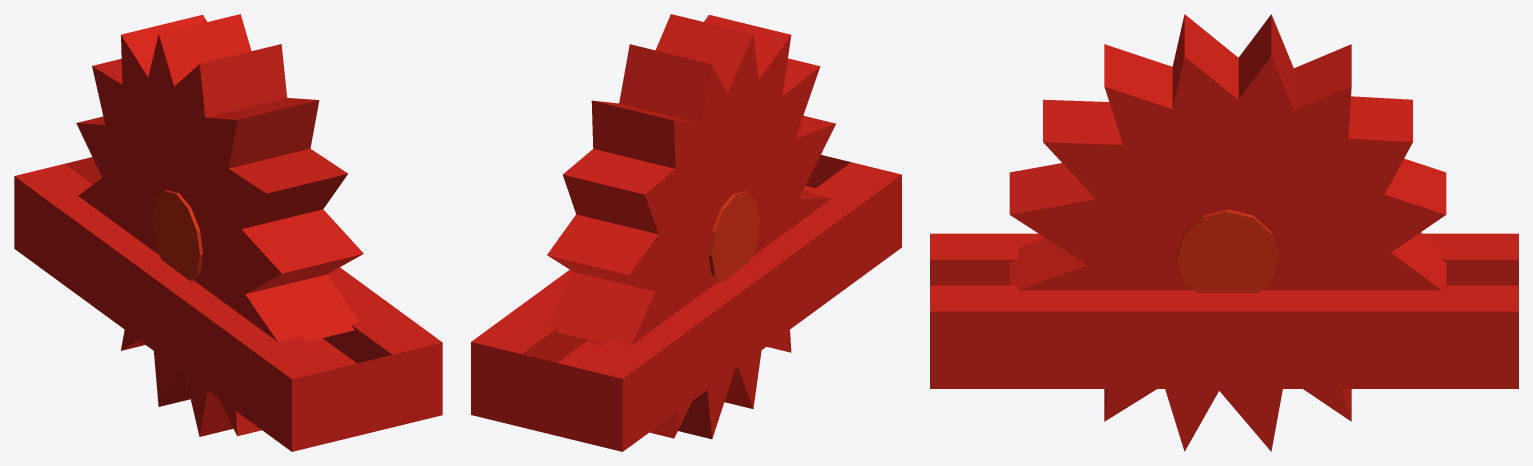
Rendered from 2nd hurdle.fbx.
The picture shows the model from 3 angles, left to right: view 1: azimuth 30°, elevation 25°; view 2: azimuth 150°, elevation 25°; view 3: azimuth 270°, elevation 25°; orthographic projection. The views are drawn at different scales.
Visible parts, largest first — view 1: Circle.001, Cube.009; view 2: Circle.001, Cube.009; view 3: Circle.001, Cube.009.
Part boxes in pixels (bbox=[...]): Circle.001: bbox=[76, 14, 363, 436]; Cube.009: bbox=[14, 157, 442, 451]; Circle.001: bbox=[547, 14, 835, 439]; Cube.009: bbox=[471, 155, 901, 451]; Circle.001: bbox=[1009, 14, 1446, 451]; Cube.009: bbox=[930, 233, 1518, 388].
Bounding box in the file's own units: 107 × 254 × 343.
Materials: 2 (2 with a texture image).
